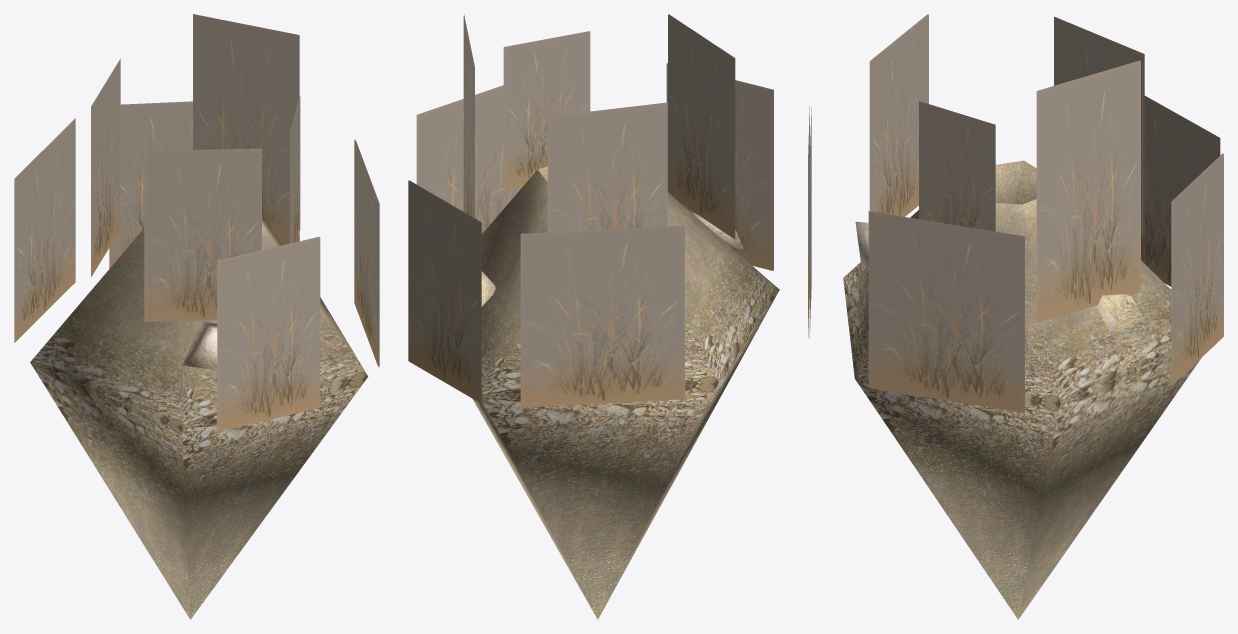
File: poi_all_lair_antpile_light_l3.fbx
The picture shows the model from 3 angles, left to right: view 1: azimuth 30°, elevation 25°; view 2: azimuth 150°, elevation 25°; view 3: azimuth 270°, elevation 25°; orthographic projection. The views are drawn at different scales.
Parts seen in each view (by area): view 1: mesh_node; view 2: mesh_node; view 3: mesh_node.
Boxes of the visible parts, left/top/right/bottom form: mesh_node: left=14, top=14, right=379, bottom=619; mesh_node: left=408, top=14, right=779, bottom=619; mesh_node: left=808, top=14, right=1223, bottom=619.
Size of the model in its own units: 4.25 by 7.32 by 4.67.
